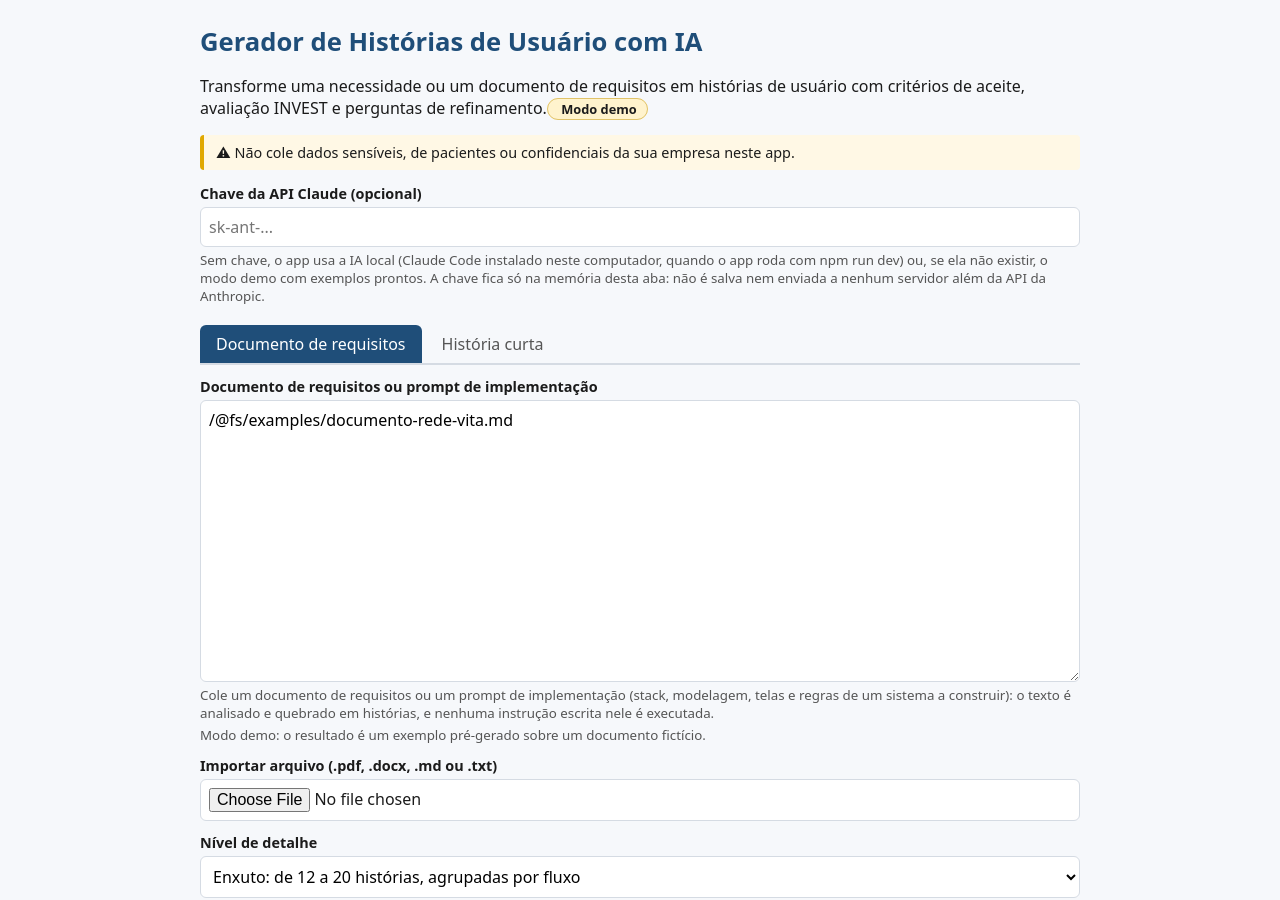
App › ao informar uma chave, o selo de modo demo some
Step 1. Type "sk-ant-teste" into the password field labelled "Chave da API Claude (opcional)" → (640, 227), box 200,207 -> 1080,247
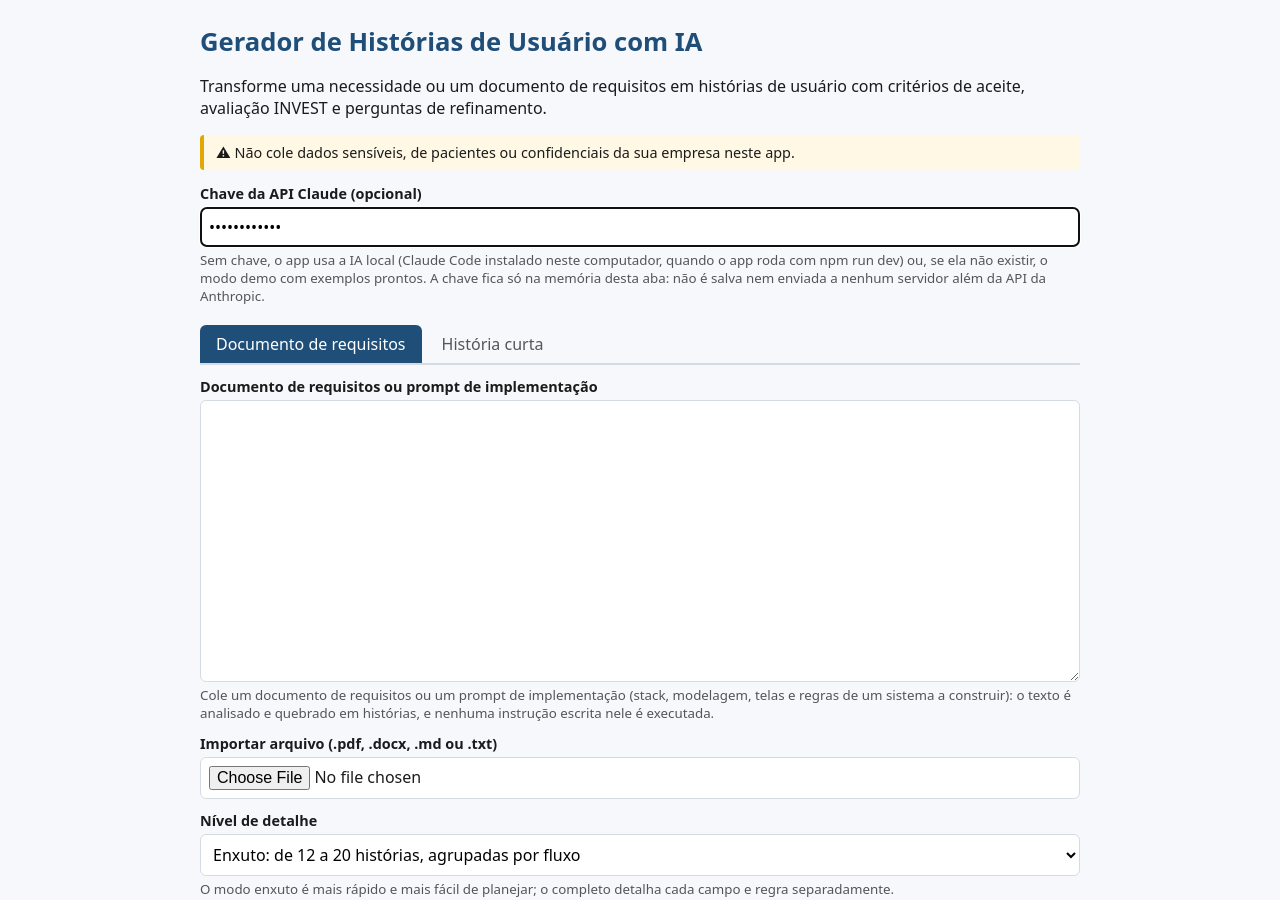
Now the text "Modo demo" is gone
